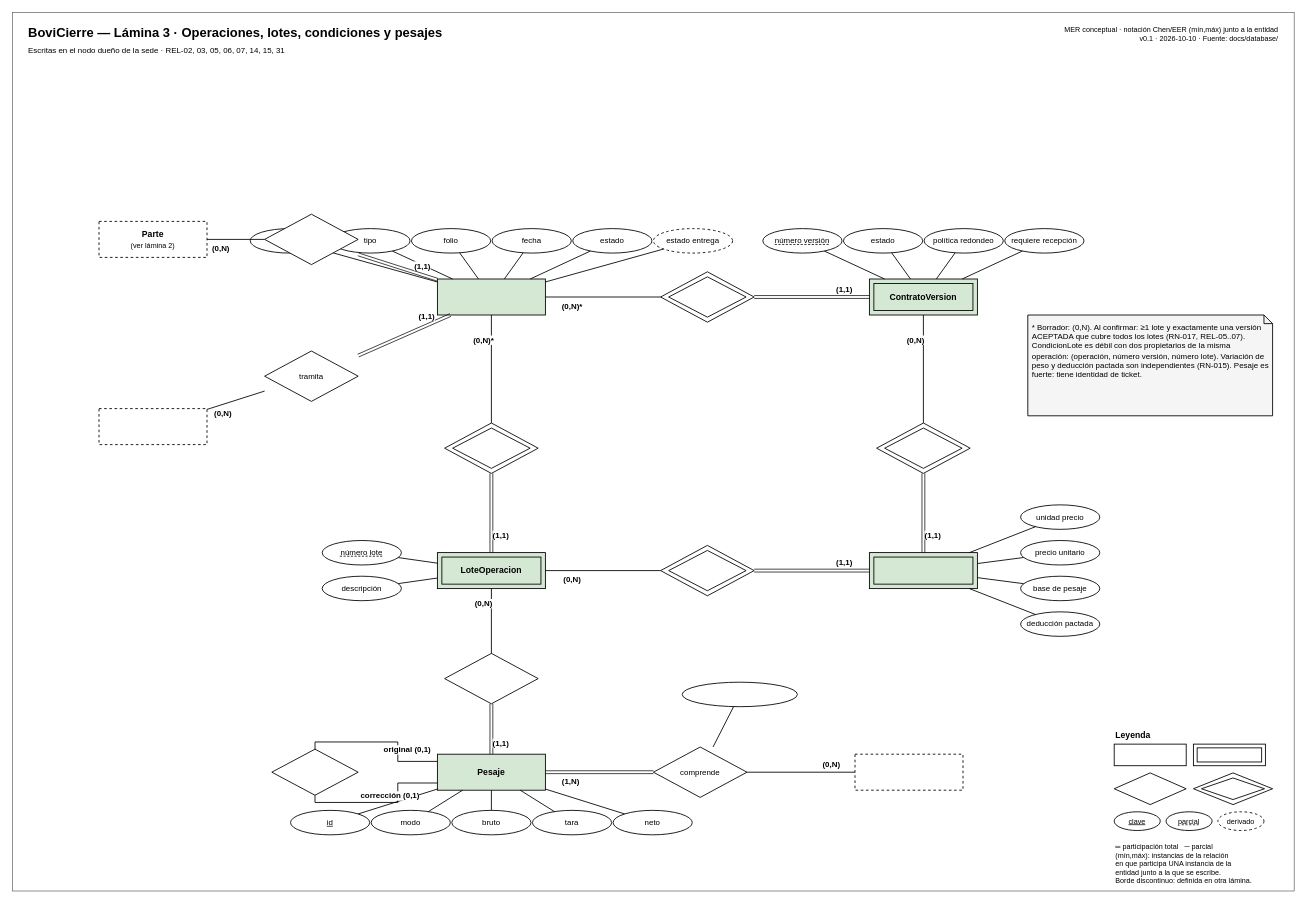
Some shapes in this 1307 by 908 pixel diagram are drawn without their labels. Each missing label, with the box of its shape:
Animal (ver lámina 2): (854, 753, 963, 790)
CondicionLote: (869, 552, 977, 589)
conserva: (660, 271, 754, 322)
contiene: (444, 422, 538, 473)
corrige: (271, 748, 358, 795)
Entidad débil: (1193, 743, 1265, 766)
Entidad fuerte: (1113, 743, 1186, 766)
establece: (876, 422, 970, 473)
identif.: (1193, 772, 1273, 805)
interviene en: (264, 213, 358, 265)
Operacion: (437, 278, 545, 315)
peso individual (si se midió): (681, 681, 797, 707)
recibe: (444, 653, 538, 704)
relación: (1113, 772, 1186, 805)
rige para: (660, 545, 754, 596)
Sucursal (ver lámina 2): (98, 408, 207, 445)
